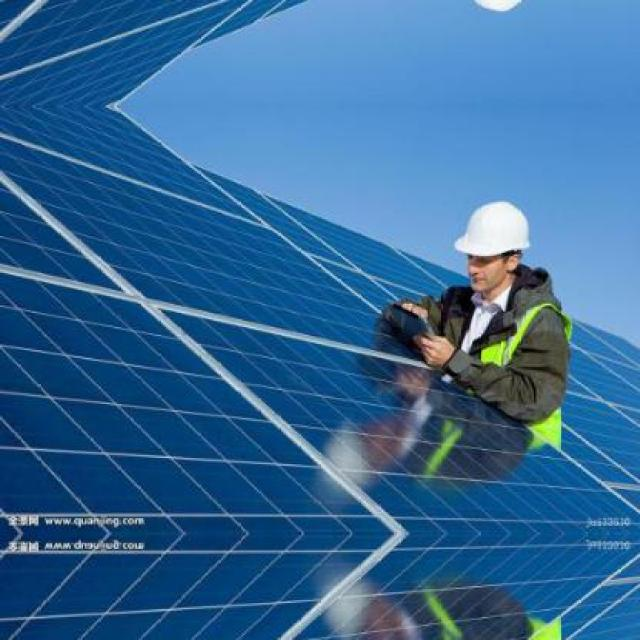helmet: (452, 188, 536, 298), (452, 0, 537, 26)
